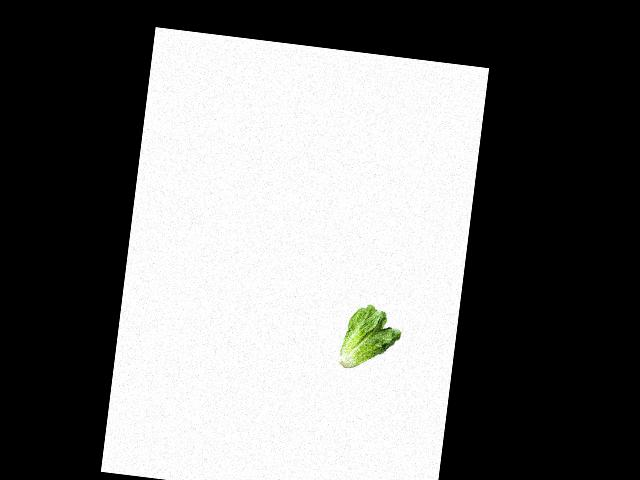lettuce: (332, 301, 406, 378)
